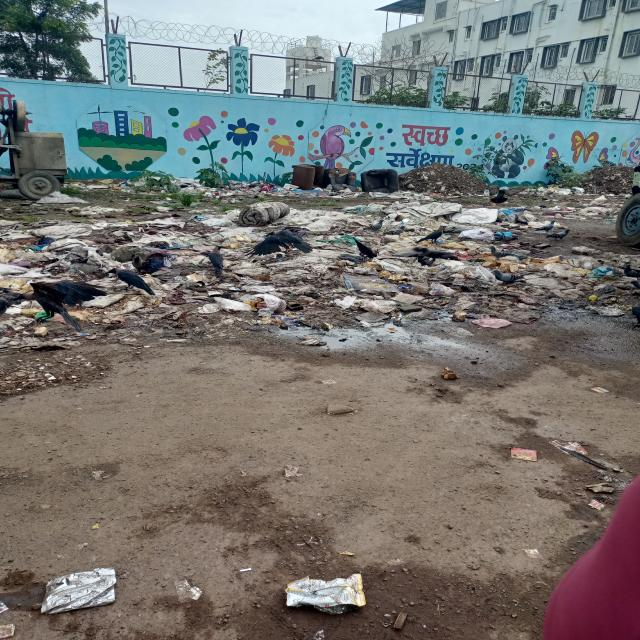garbage: (3, 202, 640, 328), (296, 166, 488, 197), (83, 172, 290, 198), (521, 165, 640, 201)
